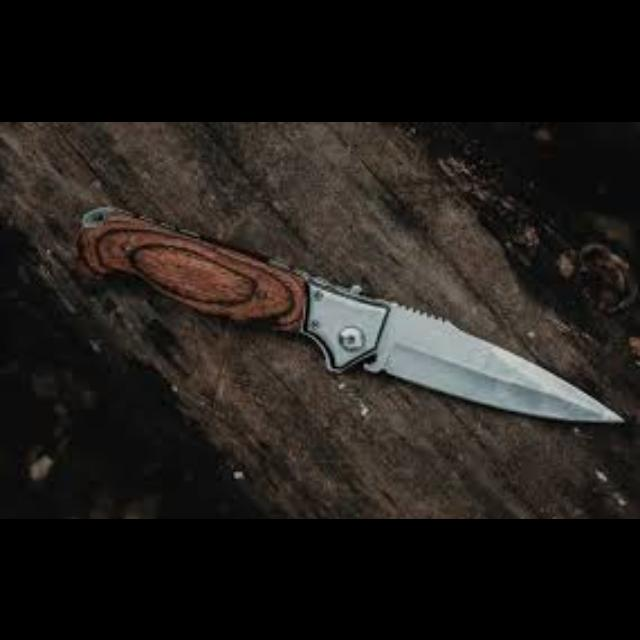Knife: (74, 202, 624, 424)
